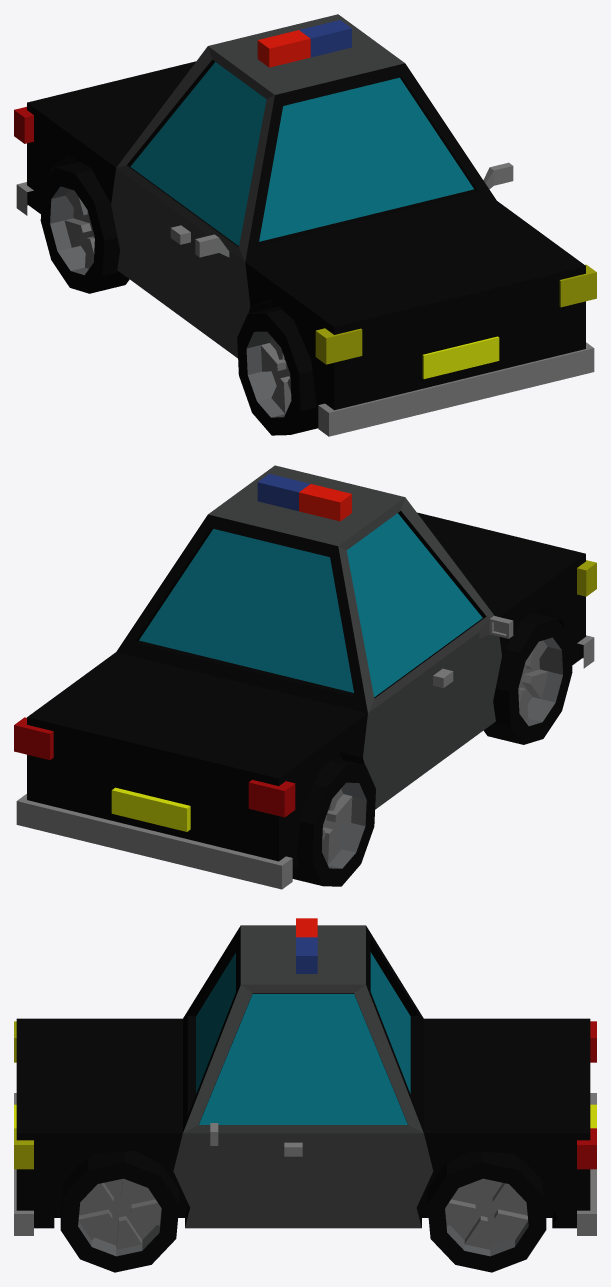
The model's file is PoliceCar.fbx.
3 renders of one model, top to bottom at view 1: azimuth 30°, elevation 25°; view 2: azimuth 150°, elevation 25°; view 3: azimuth 270°, elevation 25°, orthographic. The views are drawn at different scales.
Parts seen in each view (by area): view 1: PoliceCar; view 2: PoliceCar; view 3: PoliceCar.
Boxes of the visible parts, <box> form: PoliceCar: <box>14,14,596,436</box>; PoliceCar: <box>14,465,596,889</box>; PoliceCar: <box>14,918,596,1272</box>.
Bounding box in the file's own units: 2.61 × 2.33 × 4.51.
